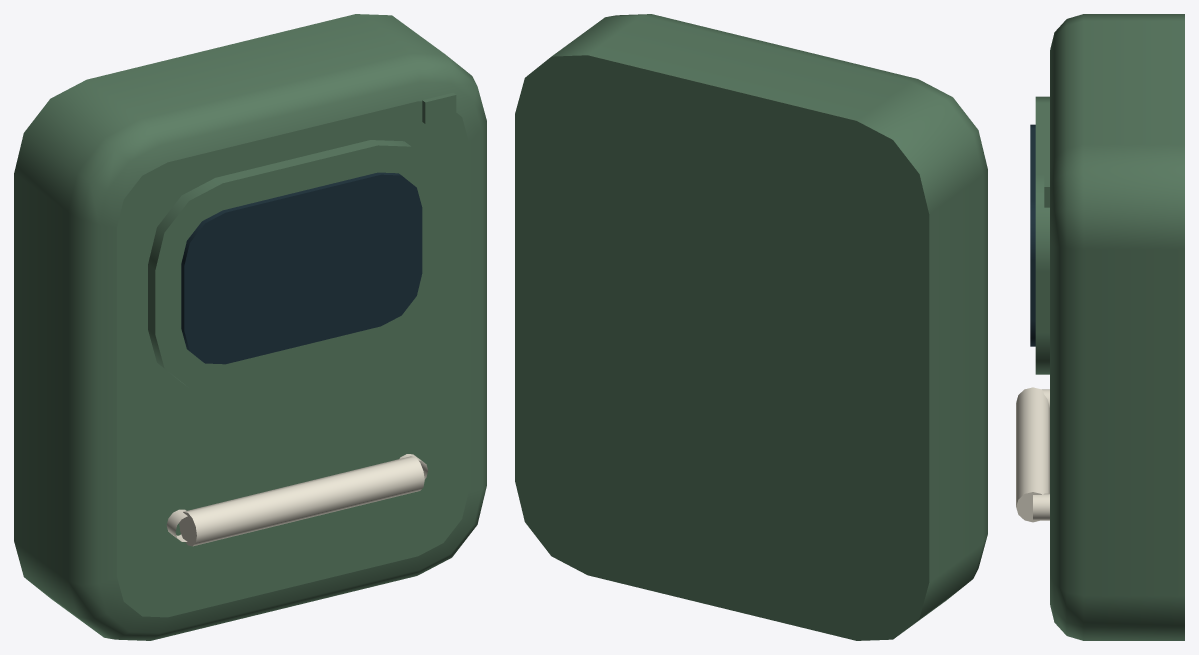
The model's file is t10_scrubber.obj.
3 renders of one model, left to right at view 1: azimuth 30°, elevation 25°; view 2: azimuth 150°, elevation 25°; view 3: azimuth 270°, elevation 25°, orthographic. The views are drawn at different scales.
Visible parts, largest first — view 1: t10_scrubber; view 2: t10_scrubber; view 3: t10_scrubber.
Part boxes in pixels (bbox=[...]): t10_scrubber: bbox=[14, 14, 486, 640]; t10_scrubber: bbox=[515, 14, 987, 640]; t10_scrubber: bbox=[1016, 14, 1184, 640].
Bounding box in the file's own units: 0.8 × 0.96 × 0.3.
